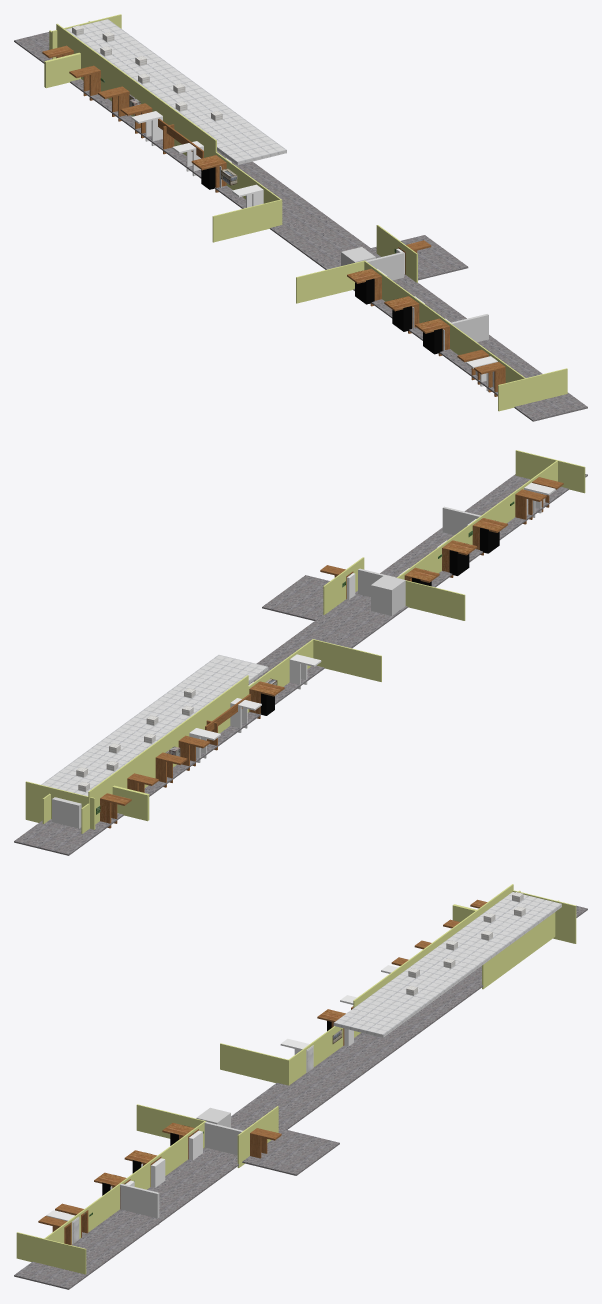
Rendered from korpusBB222.fbx.
3 views of the same model, one above another, from view 1: azimuth 30°, elevation 25°; view 2: azimuth 150°, elevation 25°; view 3: azimuth 330°, elevation 25° (orthographic).
Visible parts, largest first — view 1: Cube.140, Cube.265, Cube.139, Cube.089, Cube.119, Cube.007, Cube.166, Cube.067, Cube.076, Cube.006, Cube.094, Cube.108 (+5 smaller); view 2: Cube.265, Cube.239, Cube.139, Cube.007, Cube.119, Cube.131, Cube.140, Cube.089, Cube.056, Cube.146, Cube.006, Cube.094 (+8 smaller); view 3: Cube.007, Cube.140, Cube.166, Cube.076, Cube.089, Cube.139, Cube.108, Cube.177, Cube.067, Cube.265, Cube.098, Cube.119 (+12 smaller).
Part boxes in pixels (bbox=[...]): Cube.140: bbox=[273, 217, 370, 262]; Cube.265: bbox=[56, 23, 216, 153]; Cube.139: bbox=[212, 199, 282, 242]; Cube.089: bbox=[498, 368, 567, 411]; Cube.119: bbox=[296, 260, 364, 303]; Cube.007: bbox=[371, 235, 468, 280]; Cube.166: bbox=[230, 185, 327, 230]; Cube.067: bbox=[489, 387, 587, 421]; Cube.076: bbox=[446, 343, 542, 389]; Cube.006: bbox=[376, 225, 417, 282]; Cube.094: bbox=[44, 52, 80, 88]; Cube.108: bbox=[371, 280, 457, 318]; Cube.265: bbox=[88, 675, 248, 803]; Cube.239: bbox=[14, 819, 112, 855]; Cube.139: bbox=[313, 639, 381, 681]; Cube.007: bbox=[262, 575, 329, 620]; Cube.119: bbox=[405, 580, 465, 620]; Cube.131: bbox=[318, 591, 407, 633]; Cube.140: bbox=[273, 619, 371, 655]; Cube.089: bbox=[515, 450, 585, 493]; Cube.056: bbox=[25, 781, 95, 829]; Cube.146: bbox=[371, 575, 405, 615]; Cube.006: bbox=[323, 557, 364, 614]; Cube.094: bbox=[112, 785, 149, 821]; Cube.007: bbox=[242, 1129, 339, 1175]; Cube.140: bbox=[231, 1085, 328, 1129]; Cube.166: bbox=[274, 1056, 371, 1098]; Cube.076: bbox=[71, 1214, 155, 1257]; Cube.089: bbox=[16, 1232, 86, 1274]; Cube.139: bbox=[220, 1043, 288, 1085]; Cube.108: bbox=[161, 1152, 238, 1194]; Cube.177: bbox=[329, 1030, 415, 1067]; Cube.067: bbox=[14, 1250, 112, 1289]; Cube.265: bbox=[353, 884, 513, 1007]; Cube.098: bbox=[113, 1184, 199, 1225]; Cube.119: bbox=[136, 1104, 204, 1138].
Bounding box in the file's own units: 4022 × 1014 × 21818.
